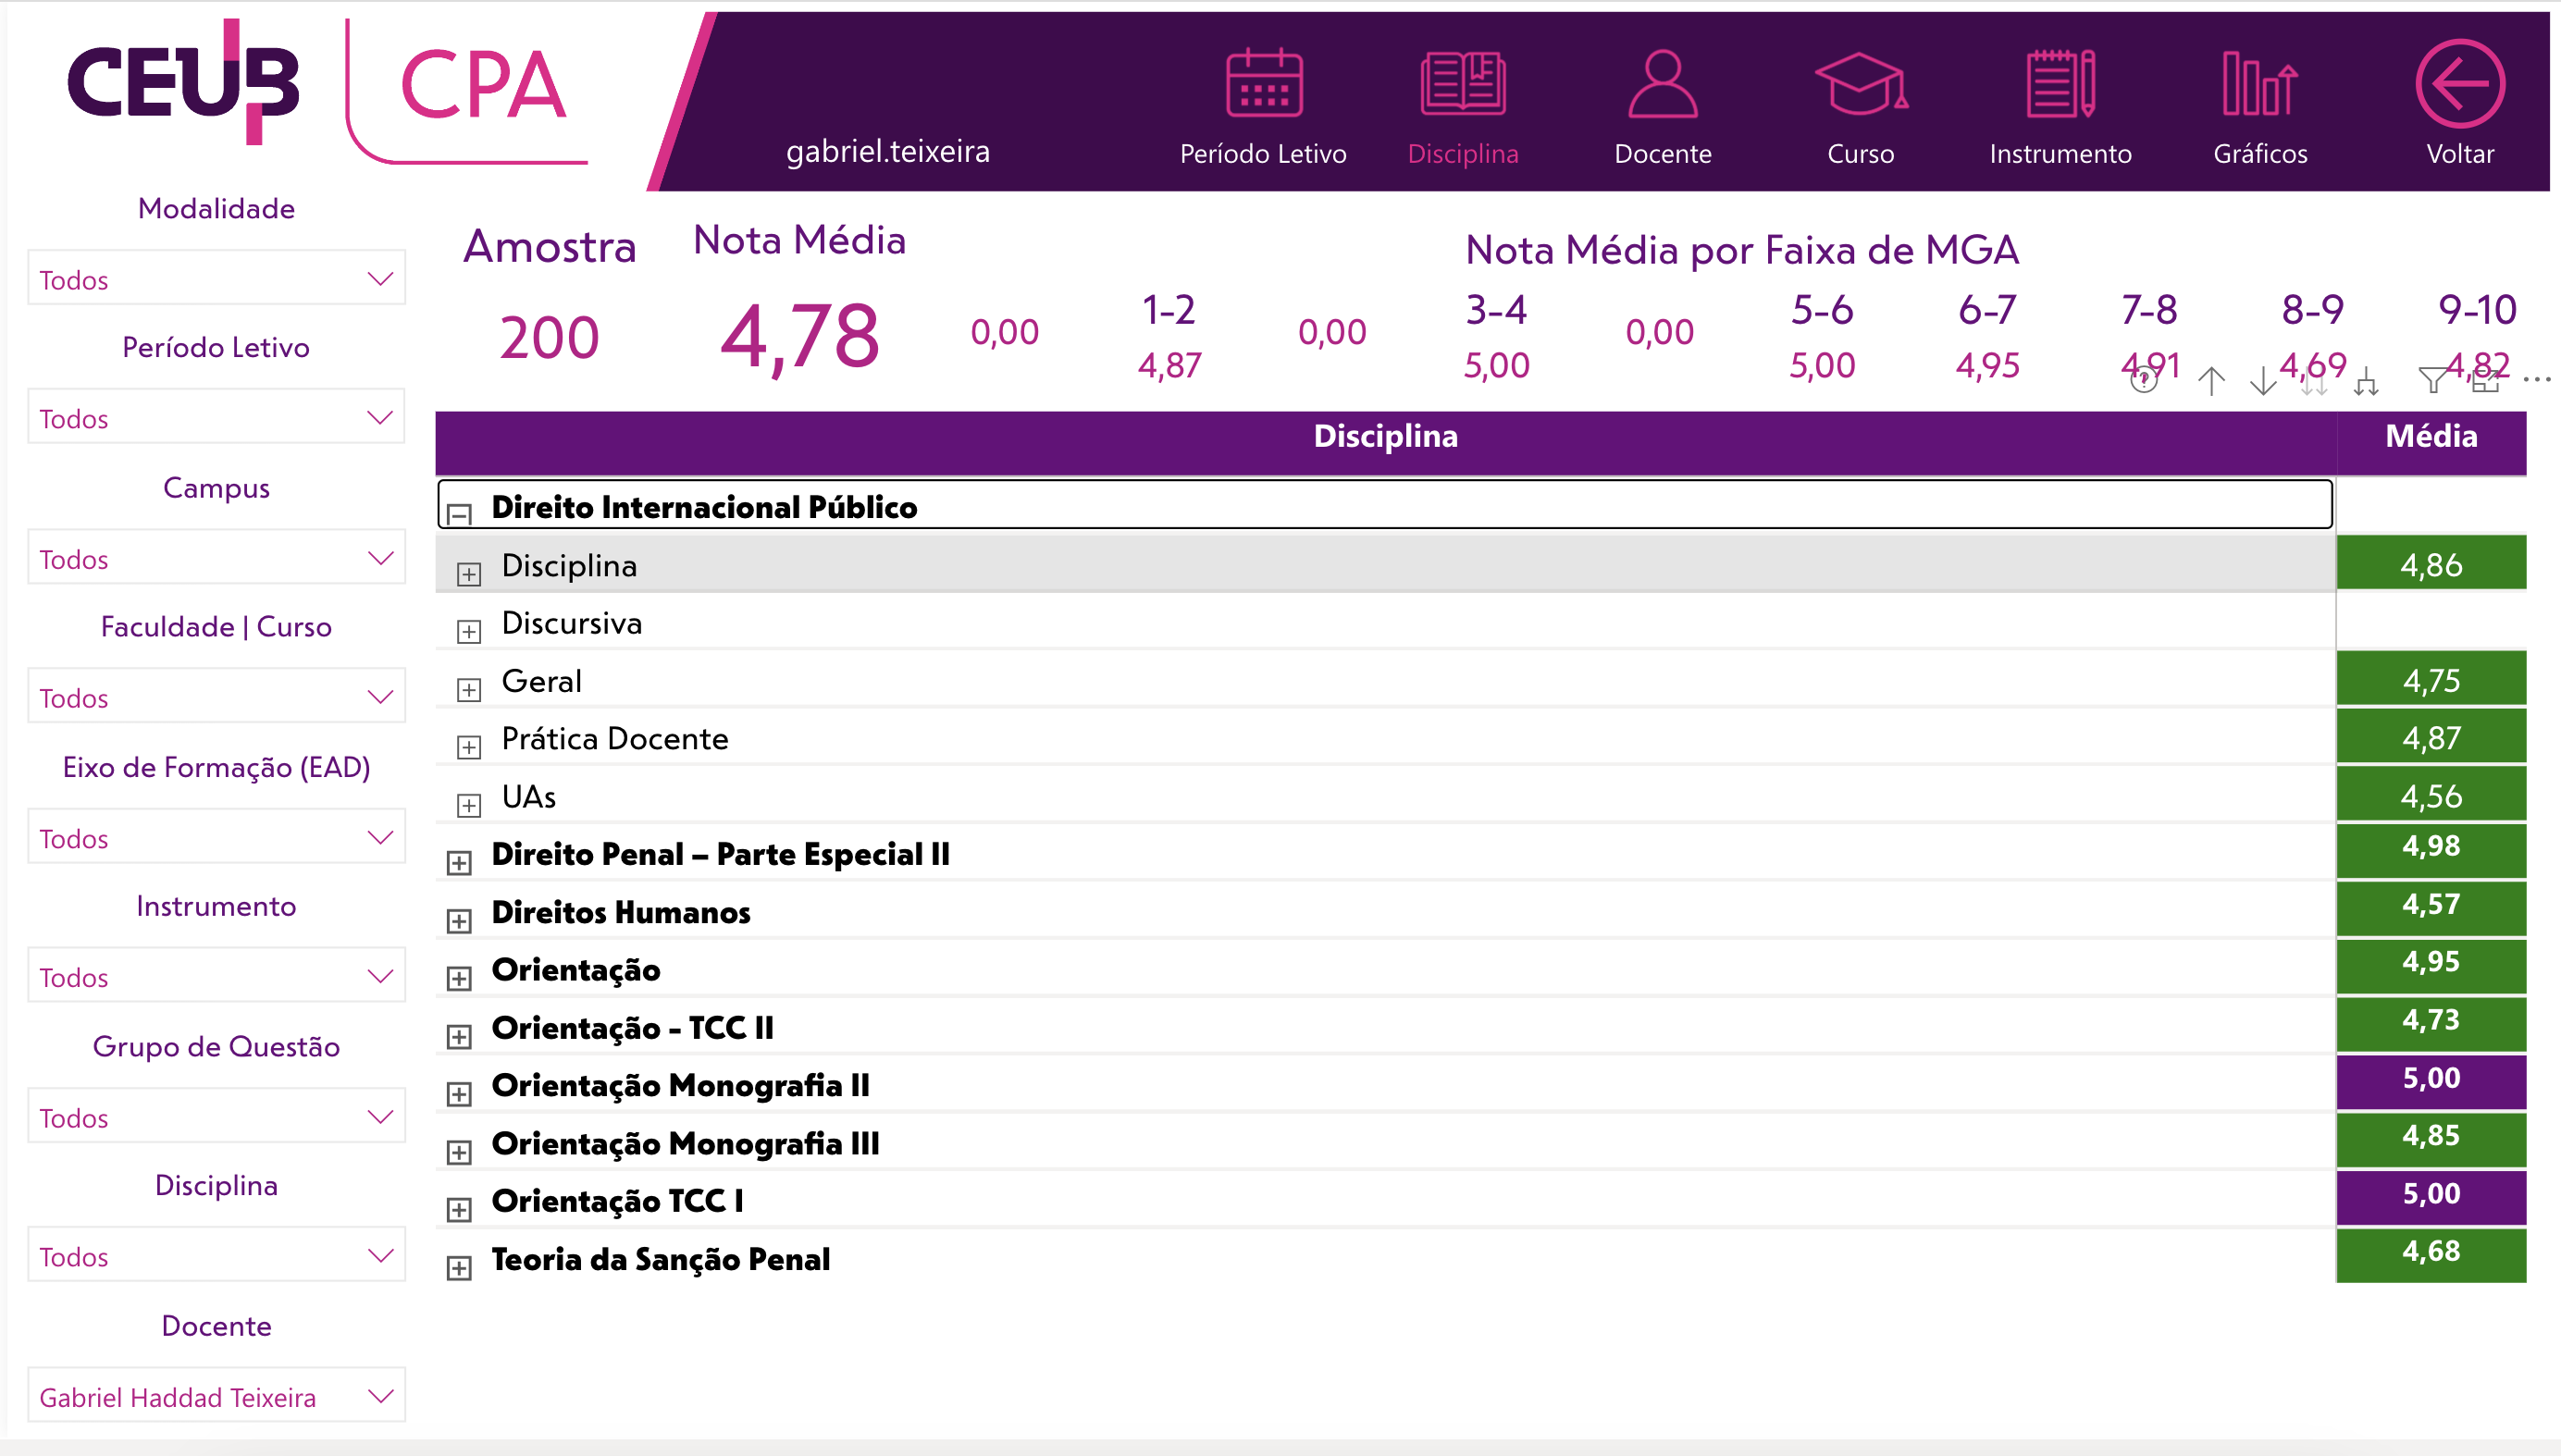

What the dashboard file says about the page in this screenshot:
{"tool":"powerbi","page":{"name":"CPA's","canvas":[1920,1080],"ordinal":0},"visuals":[{"type":"columnChart","title":"Média de Avaliação por Disciplina","fields":{"Category":["CPA - CEUB.Disciplina_Inv"],"Y":["CPA - CEUB.Média da Avaliação"]},"box":[0,917.2,415.6,162.5],"z":0},{"type":"card","fields":{"Values":["CPA - CEUB.Média da Avaliação"]},"box":[1460,930,188.3,150],"z":1000},{"type":"tableEx","fields":{"Values":["CPA - CEUB.Questão","CPA - CEUB.Grupo da Questão","CPA - CEUB.Média da Avaliação"]},"box":[0,0,668,474],"z":2000},{"type":"clusteredBarChart","title":"Total de Respostas","fields":{"Category":["CPA - CEUB.Resposta"],"Y":["CPA - CEUB.Total de Respostas"]},"box":[0,473.4,562.5,226.6],"z":3000},{"type":"tableEx","fields":{"Values":["CPA - CEUB.Professor","CPA - CEUB.Disciplina_Inv","CPA - CEUB.Média da Avaliação"]},"box":[668,0,668,474],"z":4000},{"type":"columnChart","title":"Alunos Avaliados por Nota Média - MGA","fields":{"Category":["CPA - CEUB.Faixa MGA"],"Y":["CPA - CEUB.Média da Avaliação"]},"box":[306.2,904.7,904.7,175],"z":5000},{"type":"slicer","fields":{"Values":["CPA - CEUB.EnsinoModalidade"]},"box":[1336,0,210,88],"z":6000},{"type":"slicer","fields":{"Values":["CPA - CEUB.Forma Veiculação Ensino"]},"box":[1336,88,210,114],"z":7000},{"type":"slicer","fields":{"Values":["CPA - CEUB.Período Letivo"]},"box":[1336,202,210,150],"z":8000},{"type":"slicer","fields":{"Values":["CPA - CEUB.Nome do Campus"]},"box":[1546,0,210,116],"z":9000},{"type":"slicer","fields":{"Values":["CPA - CEUB.Eixo de Formação"]},"box":[1336,406,292,146],"z":10000},{"type":"slicer","fields":{"Values":["CPA - CEUB.Nome da Avaliação"]},"box":[1336,552,578,148],"z":11000},{"type":"slicer","fields":{"Values":["CPA - CEUB.Grupo da Questão"]},"box":[1546,116,210,148],"z":12000},{"type":"slicer","fields":{"Values":["CPA - CEUB.Disciplina_Inv"]},"box":[1336,700,568,142],"z":13000},{"type":"slicer","fields":{"Values":["CPA - CEUB.Professor"]},"box":[1546,264,210,142],"z":14000},{"type":"lineStackedColumnComboChart","title":"Média da Avaliação vs. Meta por Período","fields":{"Category":["CPA - CEUB.Período de Análise Avaliação"],"Y":["CPA - CEUB.Média da Avaliação"],"Y2":["CPA - CEUB.Meta Avaliação"]},"box":[76.6,700,339.1,203.1],"z":15000},{"type":"lineChart","title":"Período de Análise Avaliação","fields":{"Category":["Calendario.Date.Variation.Hierarquia de datas.Ano"],"Y":["CPA - CEUB.Média Avaliação Período Anterior","CPA - CEUB.Média Avaliação Período Atual"]},"box":[668.8,626.6,567.2,290.6],"z":15001}]}

Visuals, with their boxes in screenshot pixels (x1, y1, x2, y2), scaled from the page's 1920x1080 canvas onto the 2561x1456 screenshot:
"Média de Avaliação por Disciplina" columnChart: select_region(0, 1237, 554, 1455)
card - CPA - CEUB.Média da Avaliação: select_region(1948, 1253, 2198, 1455)
tableEx - CPA - CEUB.Questão x CPA - CEUB.Grupo da Questão: select_region(0, 0, 891, 639)
"Total de Respostas" clusteredBarChart: select_region(0, 638, 750, 944)
tableEx - CPA - CEUB.Professor x CPA - CEUB.Disciplina_Inv: select_region(891, 0, 1782, 639)
"Alunos Avaliados por Nota Média - MGA" columnChart: select_region(408, 1220, 1615, 1455)
slicer - CPA - CEUB.EnsinoModalidade: select_region(1782, 0, 2062, 118)
slicer - CPA - CEUB.Forma Veiculação Ensino: select_region(1782, 118, 2062, 272)
slicer - CPA - CEUB.Período Letivo: select_region(1782, 272, 2062, 475)
slicer - CPA - CEUB.Nome do Campus: select_region(2062, 0, 2343, 156)
slicer - CPA - CEUB.Eixo de Formação: select_region(1782, 548, 2171, 744)
slicer - CPA - CEUB.Nome da Avaliação: select_region(1782, 744, 2553, 944)
slicer - CPA - CEUB.Grupo da Questão: select_region(2062, 156, 2343, 356)
slicer - CPA - CEUB.Disciplina_Inv: select_region(1782, 944, 2540, 1135)
slicer - CPA - CEUB.Professor: select_region(2062, 356, 2343, 548)
"Média da Avaliação vs. Meta por Período" lineStackedColumnComboChart: select_region(102, 944, 554, 1217)
"Período de Análise Avaliação" lineChart: select_region(892, 845, 1649, 1237)
